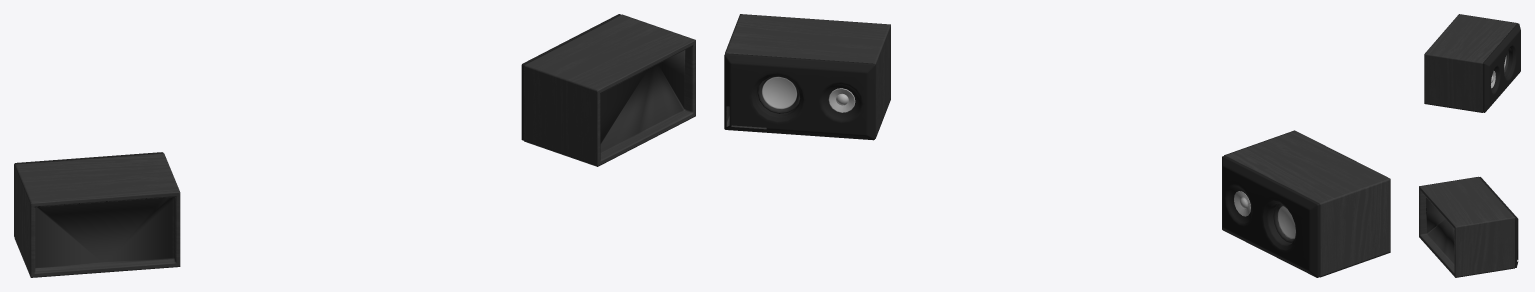
The model's file is casse1_low.fbx.
3 views of the same model, side by side, from view 1: azimuth 30°, elevation 25°; view 2: azimuth 150°, elevation 25°; view 3: azimuth 270°, elevation 25° (orthographic). The views are drawn at different scales.
Visible parts, largest first — view 1: Speaker; view 2: Speaker; view 3: Speaker.
Part boxes in pixels (x1,y1,x2,y2): Speaker: [14, 14, 695, 277]; Speaker: [724, 14, 1390, 277]; Speaker: [1419, 14, 1520, 277].
Size of the model in its own units: 240 by 27.14 by 47.94.
